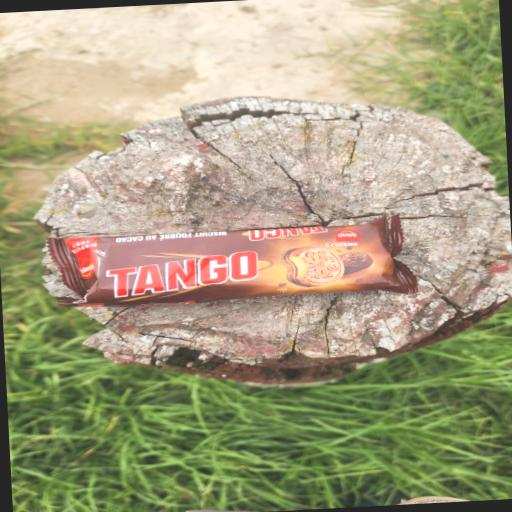tango: (8, 176, 477, 392)
